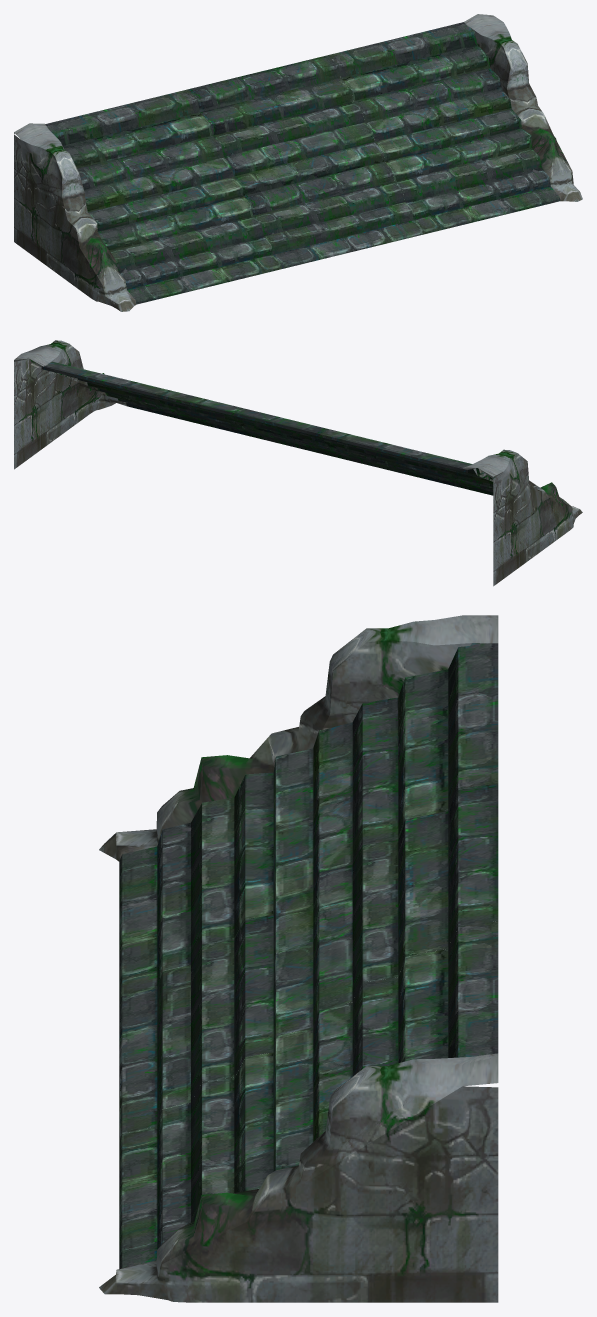
Rendered from stemple_half_stair_03.fbx.
3 renders of one model, top to bottom at view 1: azimuth 30°, elevation 25°; view 2: azimuth 150°, elevation 25°; view 3: azimuth 270°, elevation 25°, orthographic. The views are drawn at different scales.
Visible parts, largest first — view 1: stemple_half_stair_03-0; view 2: stemple_half_stair_03-0; view 3: stemple_half_stair_03-0.
Boxes of the visible parts, x1,y1,x2,y2 form: stemple_half_stair_03-0: (14,14,582,311); stemple_half_stair_03-0: (14,340,582,586); stemple_half_stair_03-0: (99,615,498,1302).
Bounding box in the file's own units: 12.91 × 2.94 × 4.63.
